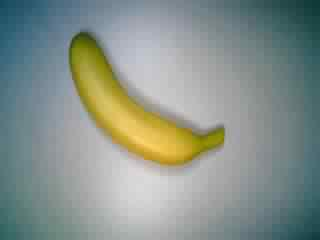banana: (67, 31, 227, 172)
